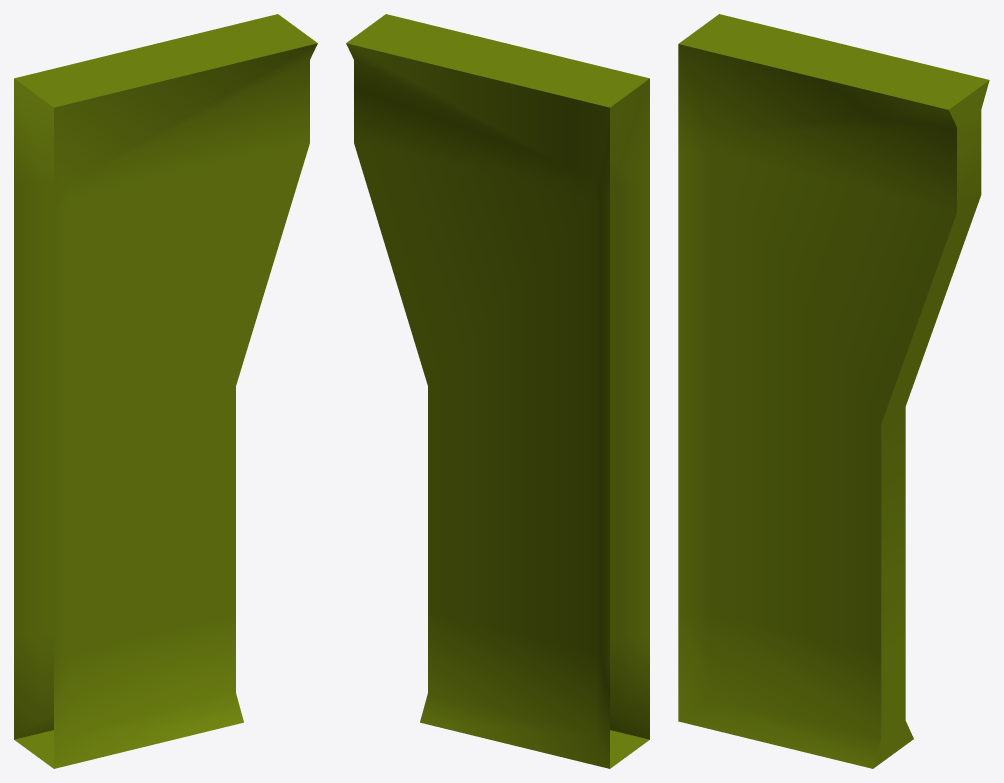
Rendered from DoorPart2.FBX.
3 renders of one model, left to right at view 1: azimuth 30°, elevation 25°; view 2: azimuth 150°, elevation 25°; view 3: azimuth 330°, elevation 25°, orthographic. The views are drawn at different scales.
Parts seen in each view (by area): view 1: Object205; view 2: Object205; view 3: Object205.
Boxes of the visible parts, bbox=[...] form: Object205: bbox=[14, 14, 317, 768]; Object205: bbox=[346, 14, 649, 768]; Object205: bbox=[678, 14, 989, 768].
Bounding box in the file's own units: 22.55 × 53.99 × 5.92.
